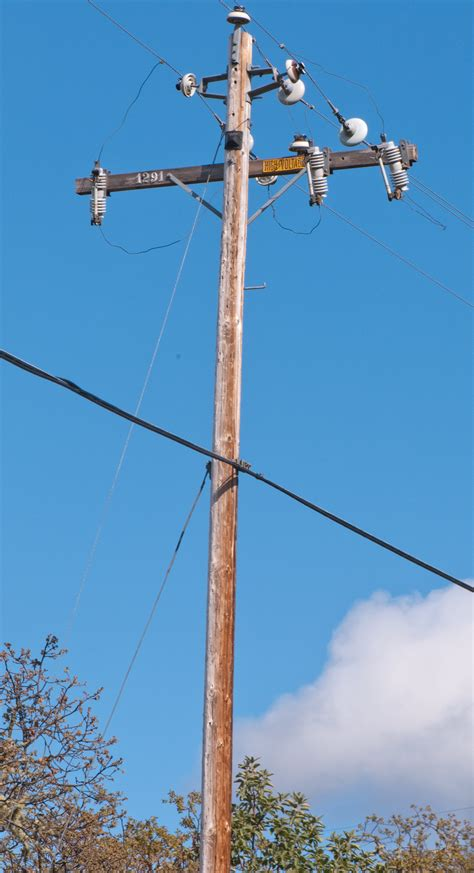pole: (50, 2, 471, 873)
